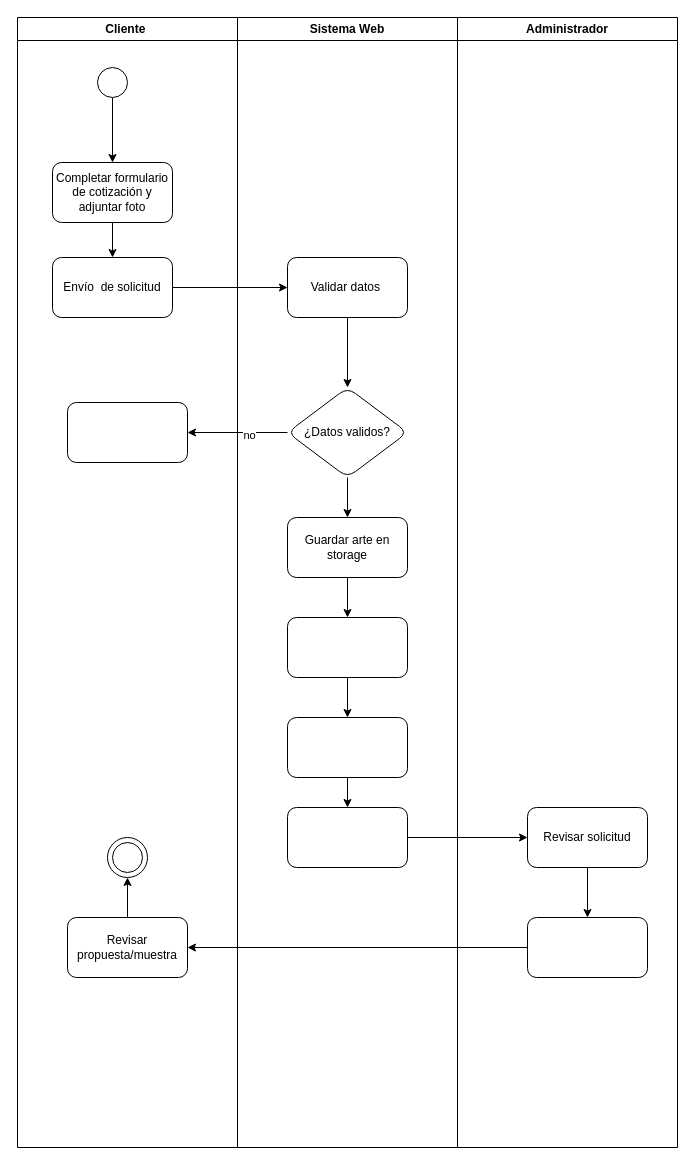
Image size: 695x1165. Some labels were removed from this diagram. Each missing label, with the centre of its shape:
"Calcular precio (área, colores, cantidad, volumen)" goes at (x=347, y=747).
"Crear solicitud de cotización" goes at (x=347, y=647).
"Enviar propuesta (Precio, condiciones, plazos)" goes at (x=587, y=947).
"Mostrar errores" goes at (x=127, y=432).
"Notificar a Admin" goes at (x=347, y=837).
